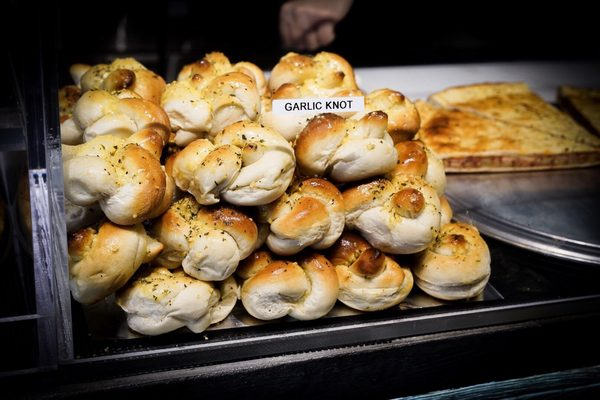burger: (33, 71, 599, 390)
